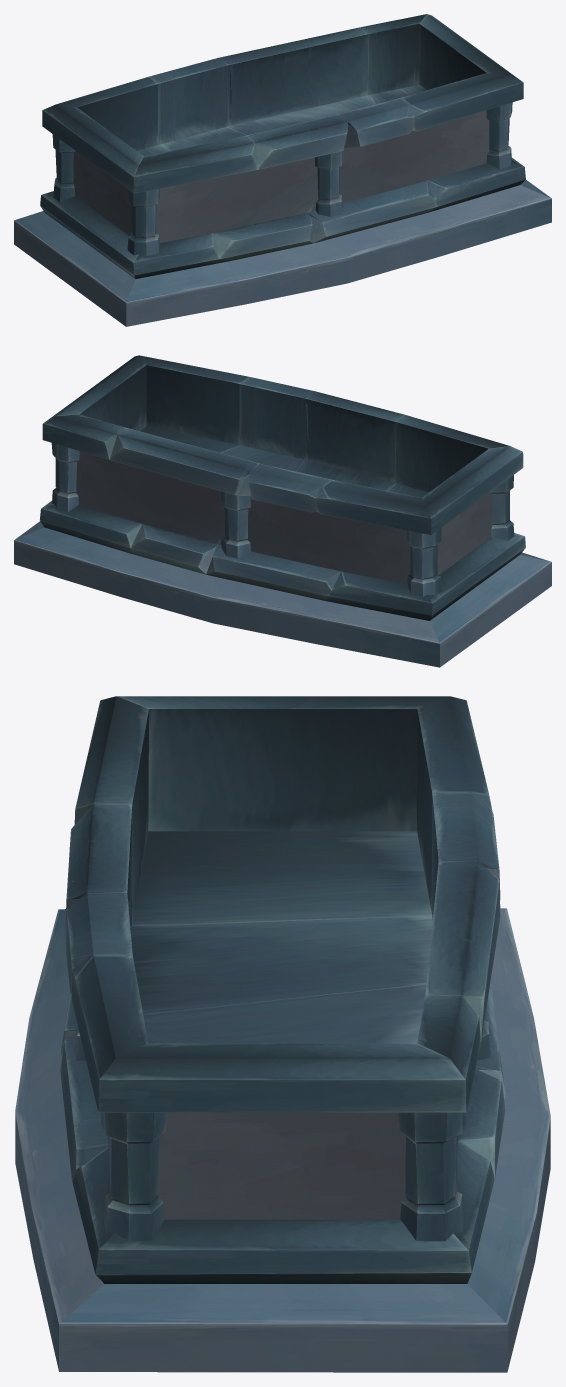
File: A_CR_GEN_Sarcophagus_01.fbx
3 views of the same model, one above another, from view 1: azimuth 30°, elevation 25°; view 2: azimuth 150°, elevation 25°; view 3: azimuth 270°, elevation 25° (orthographic). The views are drawn at different scales.
Parts seen in each view (by area): view 1: A_CR_GEN_Sarcophagus_01; view 2: A_CR_GEN_Sarcophagus_01; view 3: A_CR_GEN_Sarcophagus_01.
Boxes of the visible parts, <box> form: A_CR_GEN_Sarcophagus_01: <box>14,14,551,326</box>; A_CR_GEN_Sarcophagus_01: <box>14,355,551,667</box>; A_CR_GEN_Sarcophagus_01: <box>15,696,550,1372</box>.
Bounding box in the file's own units: 407 × 132 × 222.
1 material, 1 textured.
